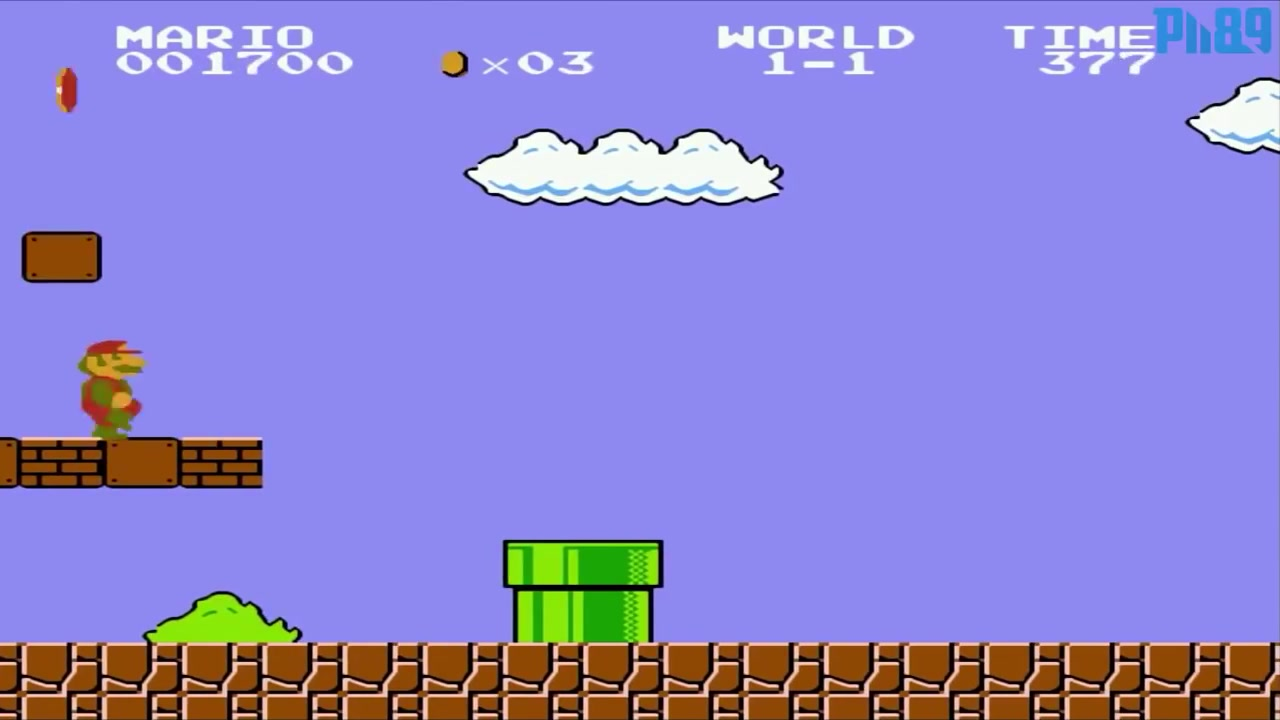mario: (69, 331, 153, 438)
